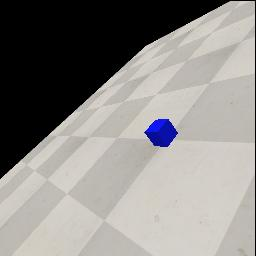box: (144, 119, 178, 147)
